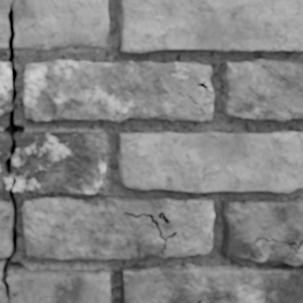brick: (121, 199, 302, 302), (22, 196, 213, 258), (22, 60, 213, 121), (117, 131, 302, 192), (118, 0, 302, 52), (219, 59, 302, 121), (0, 199, 12, 257), (0, 62, 12, 116)
broken_brick: (12, 131, 106, 194), (0, 0, 109, 52), (0, 268, 111, 302), (0, 130, 10, 192)
crack: (0, 2, 26, 300), (121, 211, 178, 256), (197, 81, 213, 93)
